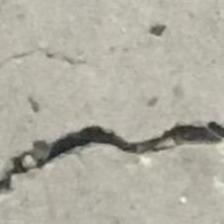Crack: (0, 114, 224, 212)
